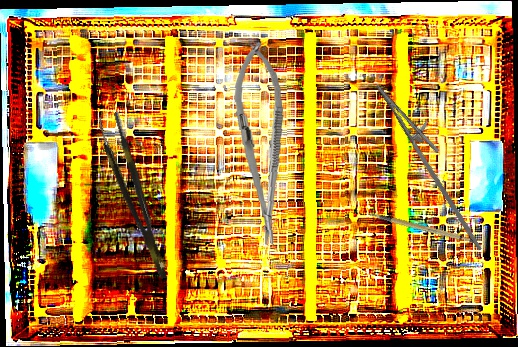Needle Holder: (357, 74, 512, 252), (230, 41, 293, 247)
Scalpel Handle: (367, 195, 478, 258)
Tissue Forceps: (95, 111, 170, 284)
